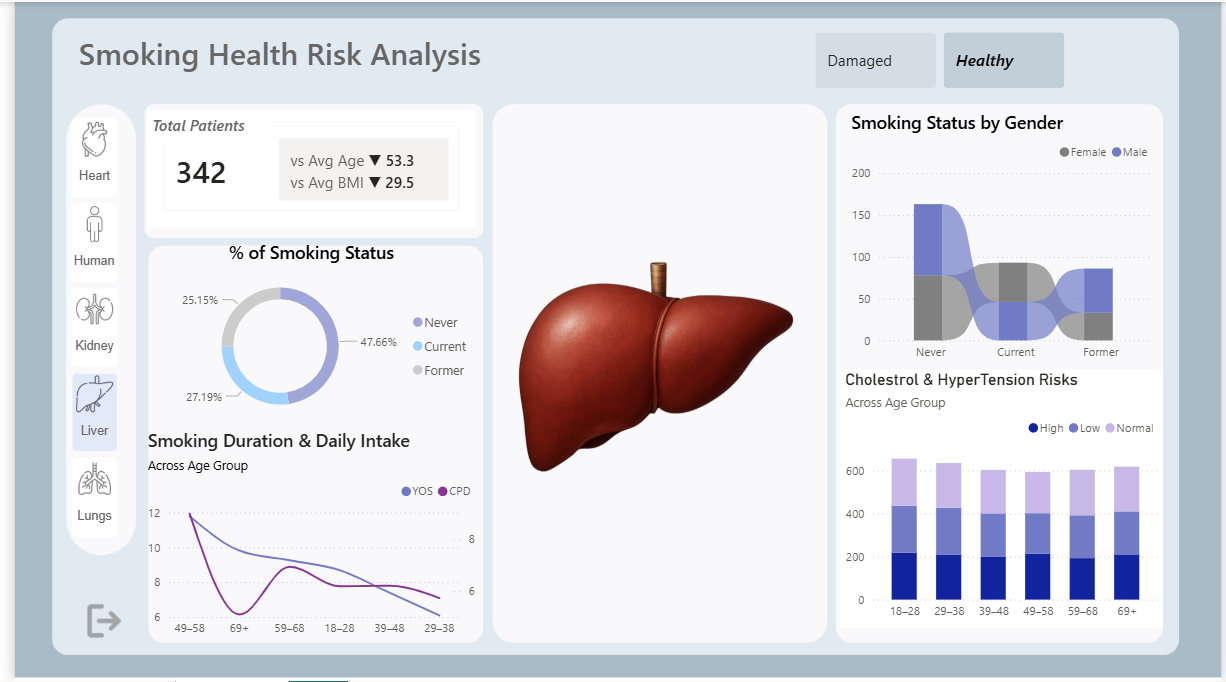

The dashboard page shown, as its layout file describes it:
{"tool":"powerbi","page":{"name":"Page 1","canvas":[1280,720],"ordinal":0},"visuals":[{"type":"cardVisual","fields":{"Data":["CountNonNull(health_dataset.Patient_ID)"]},"box":[141.7,115.3,347.7,124.7],"z":0},{"type":"textbox","box":[141.7,115.3,132.3,35.9],"z":1000},{"type":"advancedSlicerVisual","fields":{"Values":["condition.Organ_Condition"]},"box":[844.7,26.5,275.9,69.9],"z":2000},{"type":"ChicletSlicer1448559807354","fields":{"Category":["Organs.Organ"],"Image":["Organs.Icon_URL"]},"box":[52.9,115.3,88.8,480],"z":3000},{"type":"image","box":[517.8,115.3,326.9,548],"z":4000},{"type":"donutChart","title":"% of Smoking Status","fields":{"Category":["health_dataset.Smoking_Status"],"Y":["CountNonNull(health_dataset.Smoking_Status)"]},"box":[136.1,253.2,357.2,198.4],"z":5000},{"type":"lineChart","title":"Smoking Duration & Daily Intake","fields":{"Category":["health_dataset.Age Group"],"Y":["Avg(health_dataset.Years_of_Smoking)"],"Y2":["Avg(health_dataset.Cigarettes_Per_Day)"]},"box":[136.1,451.7,357.2,230.6],"z":6000},{"type":"ribbonChart","title":"Smoking Status by Gender","fields":{"Category":["health_dataset.Smoking_Status"],"Y":["CountNonNull(health_dataset.Patient_ID)"],"Series":["health_dataset.Gender"]},"box":[882.5,115.3,328.8,274],"z":7000},{"type":"columnChart","title":"Cholestrol & HyperTension Risks","fields":{"Category":["health_dataset.Age Group"],"Y":["Avg(health_dataset.Cholesterol_Level)"],"Series":["health_dataset.BP_Risk"]},"box":[876.9,389.3,342,274],"z":8000},{"type":"textbox","box":[64.3,26.5,500.8,69.9],"z":8001}]}

Visuals, with their boxes in screenshot pixels (x1, y1, x2, y2), scaled from the page's 1280x720 canvas onto the 1226x682 screenshot:
cardVisual - CountNonNull(health_dataset.Patient_ID): box(136, 109, 469, 227)
textbox: box(136, 109, 262, 143)
advancedSlicerVisual - condition.Organ_Condition: box(809, 25, 1073, 91)
ChicletSlicer1448559807354 - Organs.Organ x Organs.Icon_URL: box(51, 109, 136, 564)
image: box(496, 109, 809, 628)
"% of Smoking Status" donutChart: box(130, 240, 472, 428)
"Smoking Duration & Daily Intake" lineChart: box(130, 428, 472, 646)
"Smoking Status by Gender" ribbonChart: box(845, 109, 1160, 369)
"Cholestrol & HyperTension Risks" columnChart: box(840, 369, 1167, 628)
textbox: box(62, 25, 541, 91)
